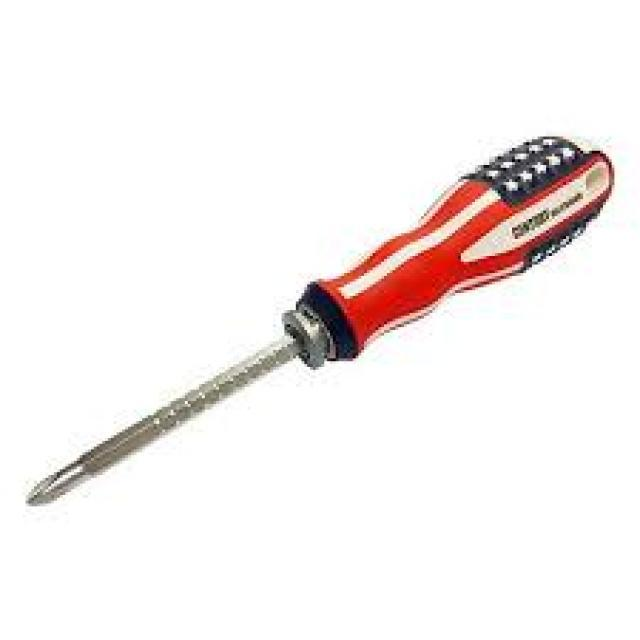screwdriver: (21, 130, 619, 510)
